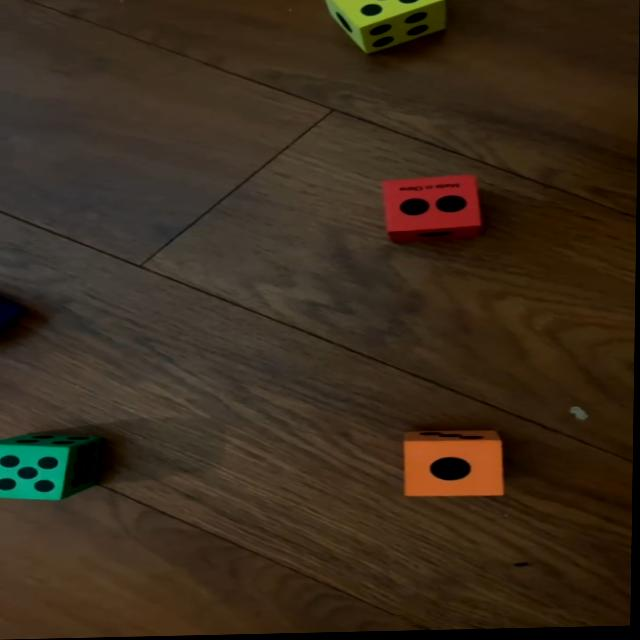blue_block: (0, 302, 23, 330)
red_block: (383, 176, 484, 246)
